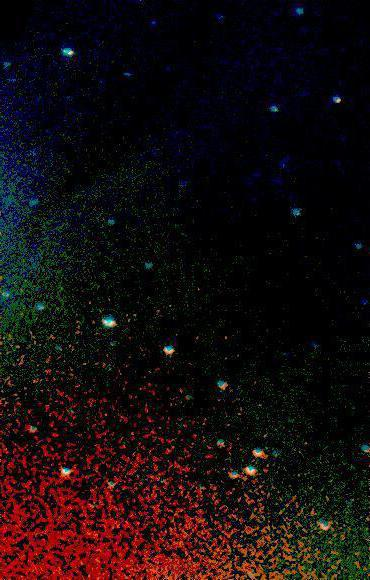star: (75, 0, 105, 26)
